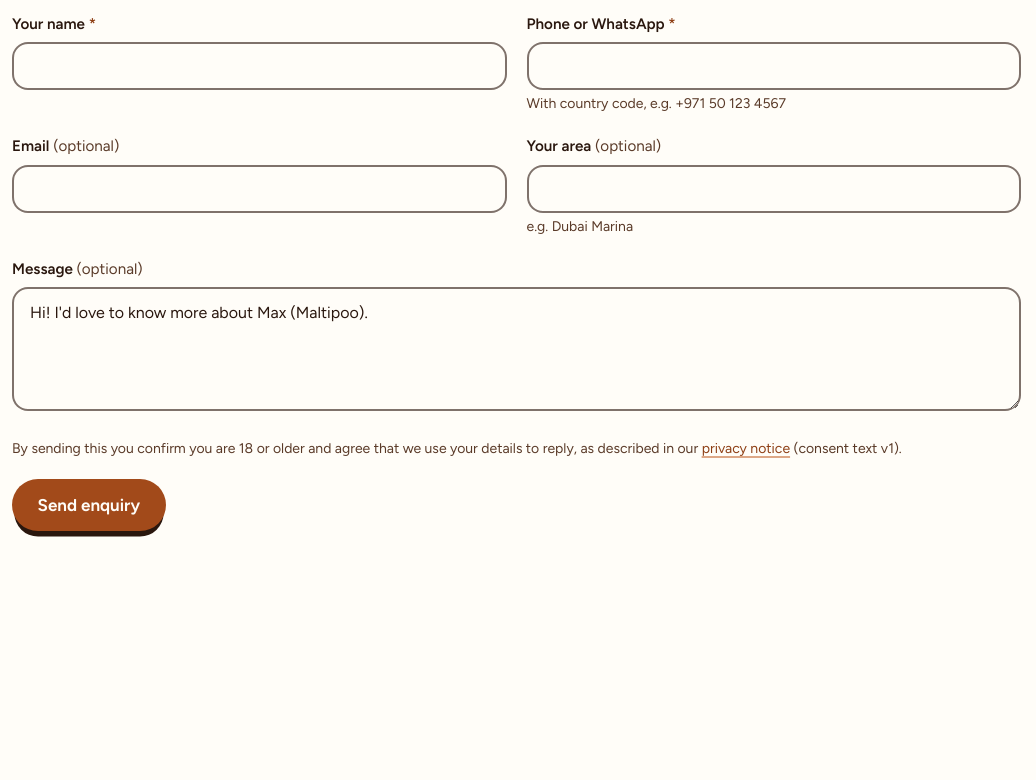
Test: EnquiryForm (puppy page) › prefills the message and validates
This screenshot has width=1036, height=780.
Check: the text box labelled "Message (optional)" holds "Hi! I'd love to know more about Max (Maltipoo).", box [12, 287, 1021, 411]
Click the button "Send enquiry". click: x=89, y=505
box: [12, 479, 166, 531]
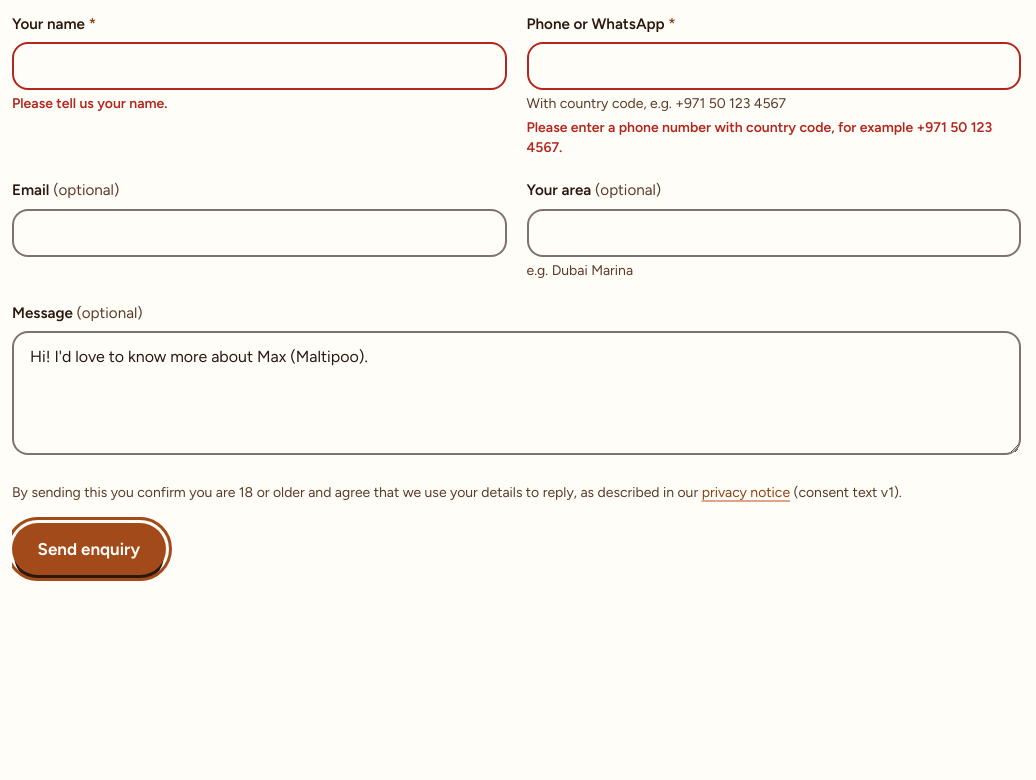
Check: the text "Please tell us your name." is shown, box [12, 95, 168, 112]
